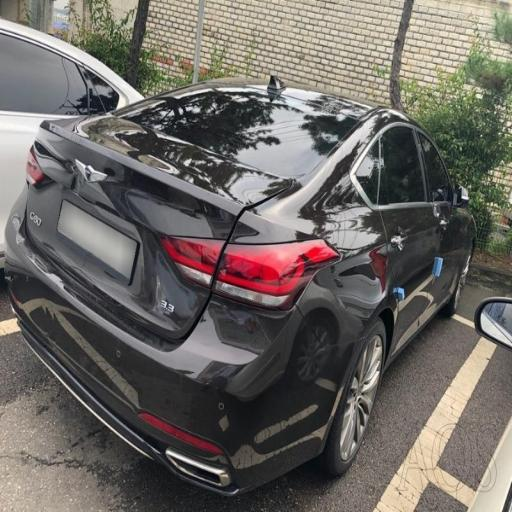dent: (62, 162, 264, 374)
scratch: (236, 382, 350, 476)
